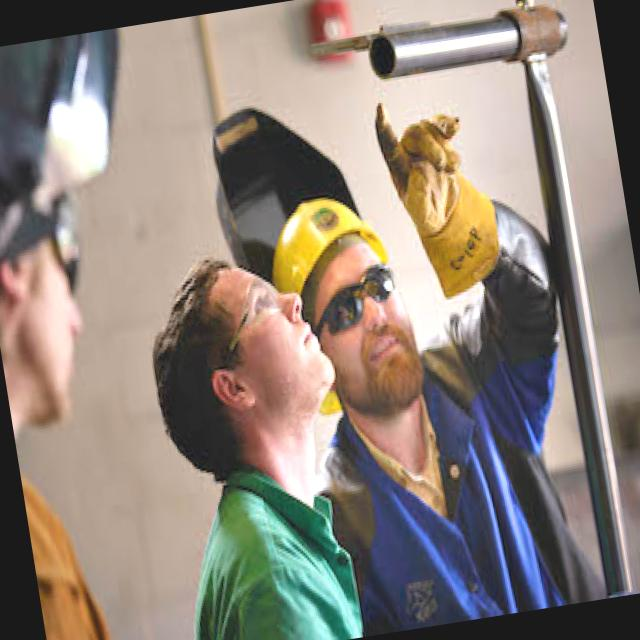goggles: (320, 253, 414, 334), (228, 278, 288, 332)
helmet: (258, 180, 386, 284)
no-helmet: (130, 234, 276, 468)
no-vest: (339, 340, 542, 605), (175, 463, 358, 640)
